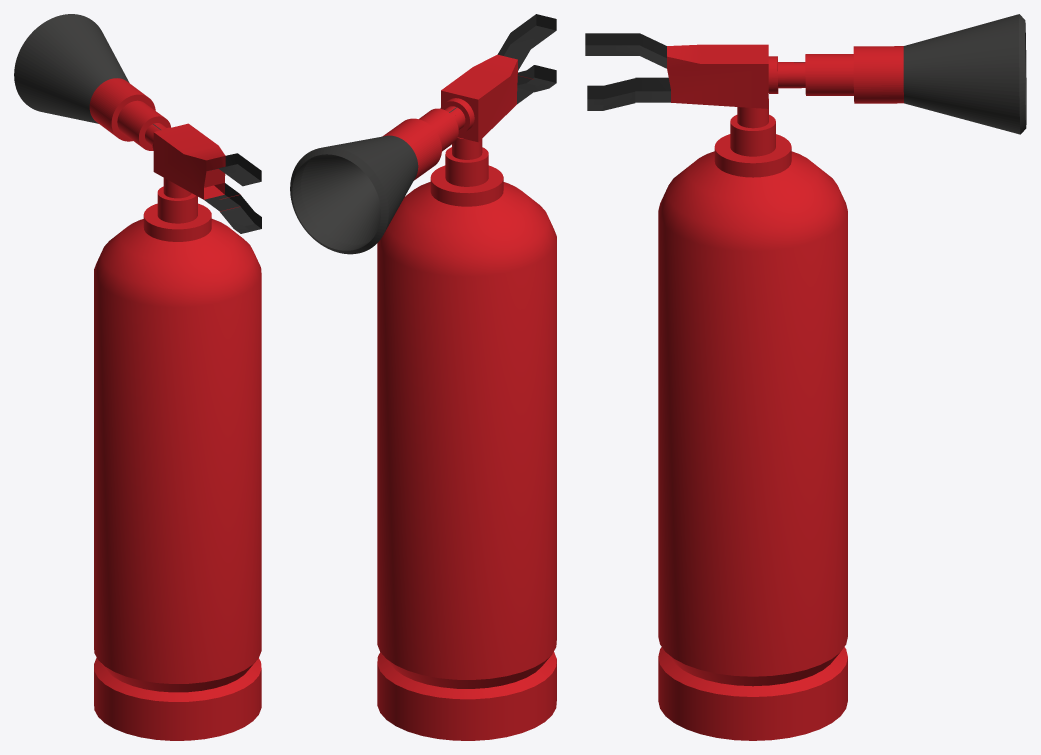
File: Fire.fbx
3 views of the same model, side by side, from view 1: azimuth 30°, elevation 25°; view 2: azimuth 150°, elevation 25°; view 3: azimuth 270°, elevation 25° (orthographic). The views are drawn at different scales.
Parts seen in each view (by area): view 1: Cylinder; view 2: Cylinder; view 3: Cylinder.
Part boxes in pixels (left/top/right/bottom): Cylinder: left=14, top=14, right=261, bottom=740; Cylinder: left=290, top=14, right=556, bottom=740; Cylinder: left=585, top=14, right=1026, bottom=740.
Size of the model in its own units: 200 by 793 by 465.
